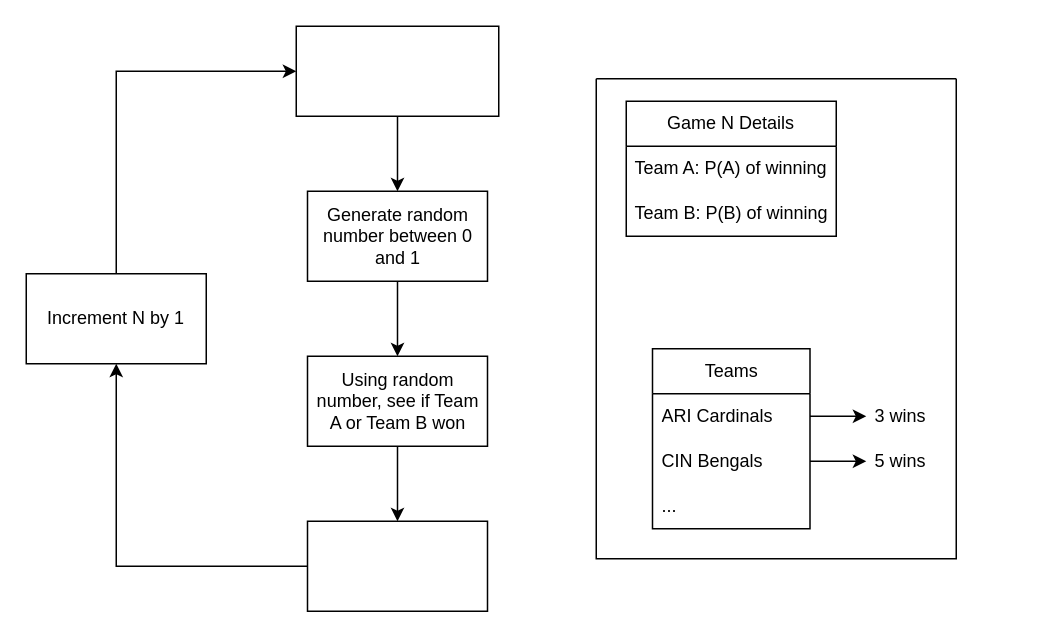
Image size: 1050x638. Some labels were removed from this diagram. The shapes that lost their labels are listed below. From the top down, each one's box as (x1, y1, x2, y2) in pixels, then its label:
(295, 25, 499, 116): Grab details of game N
(306, 520, 488, 611): Increment winners' win tally by 1
